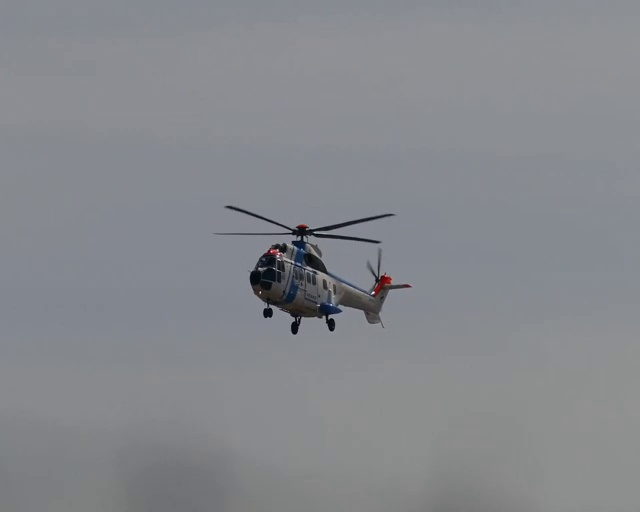HELICOPTER: (211, 206, 412, 335)
